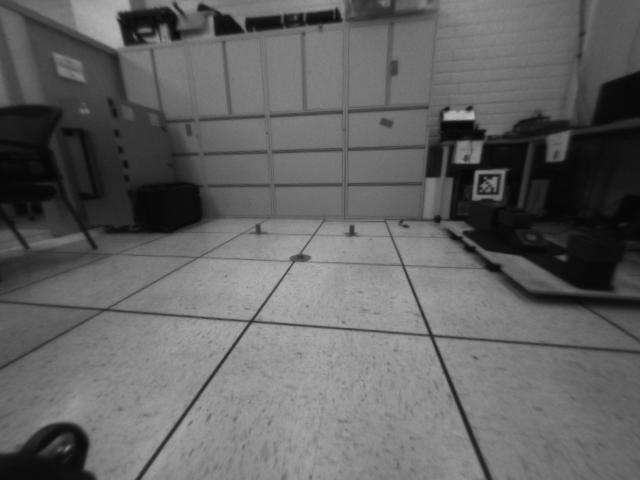X: (342, 224, 362, 238), (248, 223, 269, 236)
